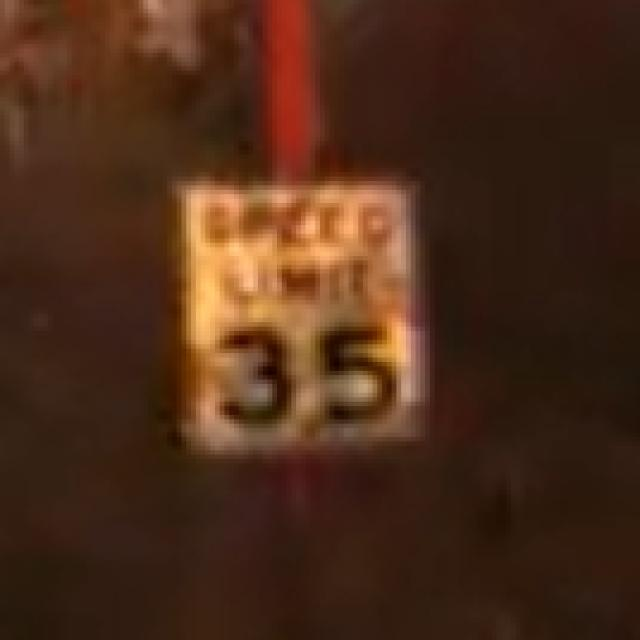speedLimit35: (171, 172, 429, 461)
